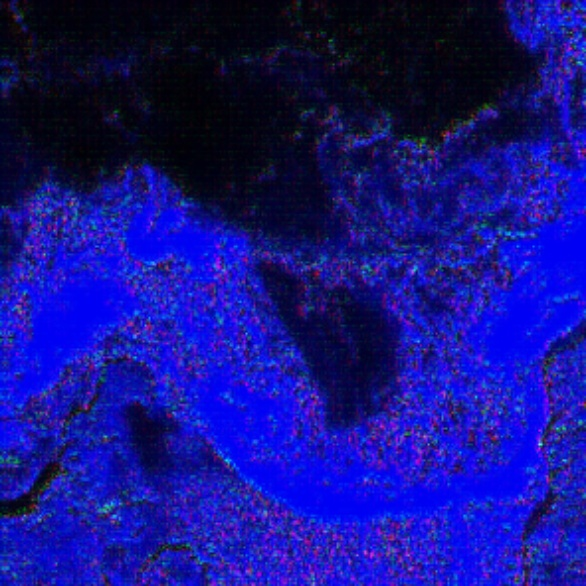rip_current: (164, 103, 439, 440)
